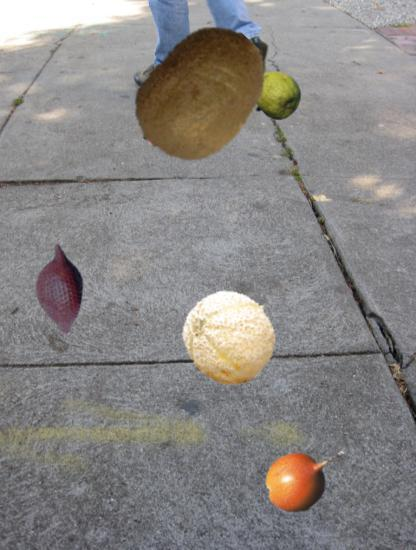Cantaloupe: (181, 289, 278, 386)
Granadilla: (264, 436, 352, 524)
Kiwi: (130, 22, 275, 167)
Limes: (250, 70, 302, 122)
Salak: (14, 243, 105, 334)
